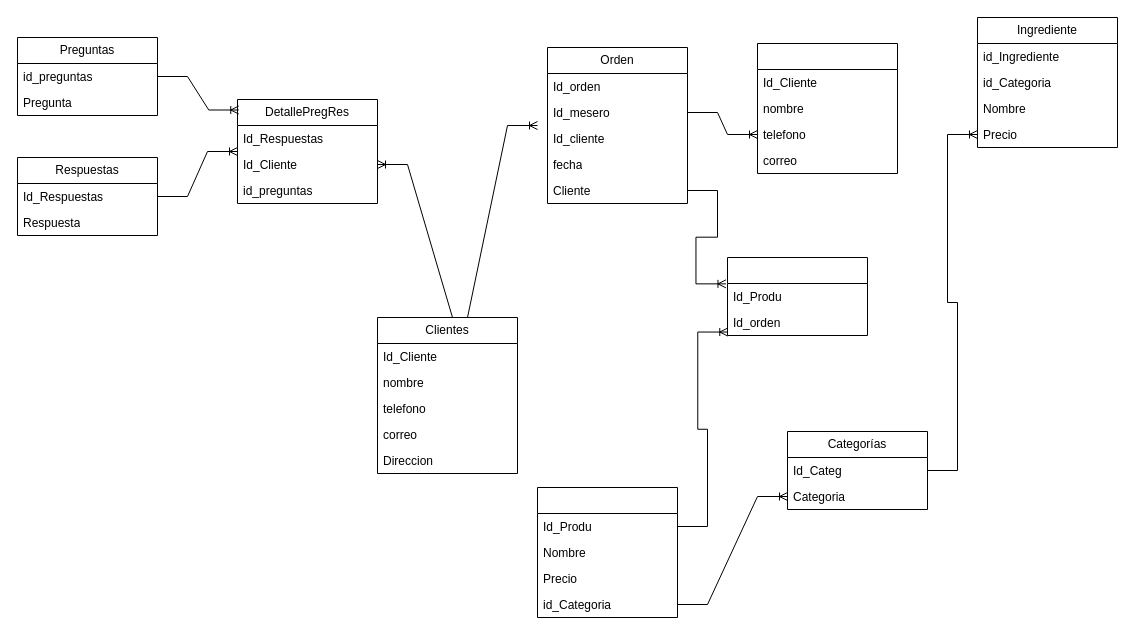
Some shapes in this 1135 by 638 pixel diagram are drawn without their labels. Here are the shapes that lost their labels. From the top down, the box of each, then its label:
(756, 42, 898, 174): Mesero
(726, 256, 868, 336): Detalle_ProdOrden
(536, 486, 678, 618): Produto
